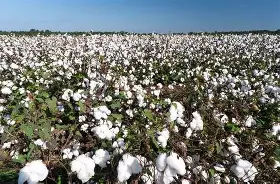crops: (0, 32, 278, 182), (0, 23, 275, 35), (67, 148, 142, 183)
